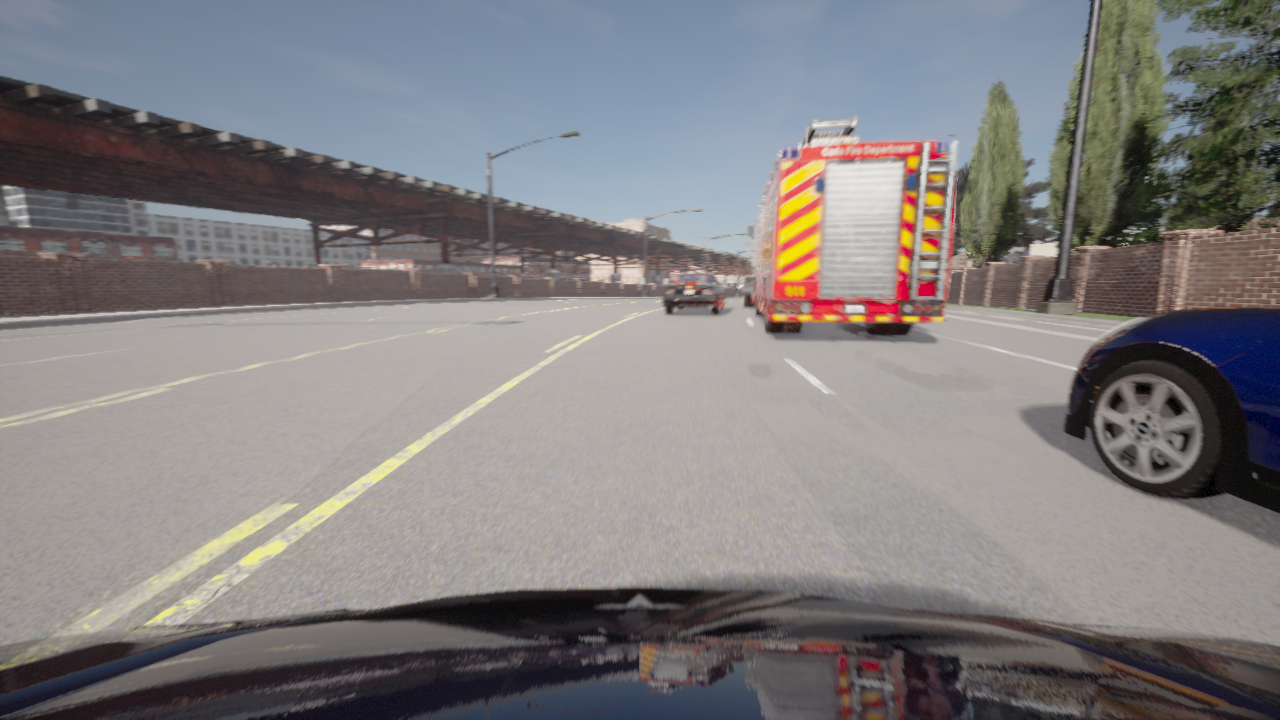cyclist: (0, 588, 1279, 719), (746, 117, 957, 335), (1063, 307, 1279, 513), (663, 272, 726, 314), (743, 239, 756, 308)
